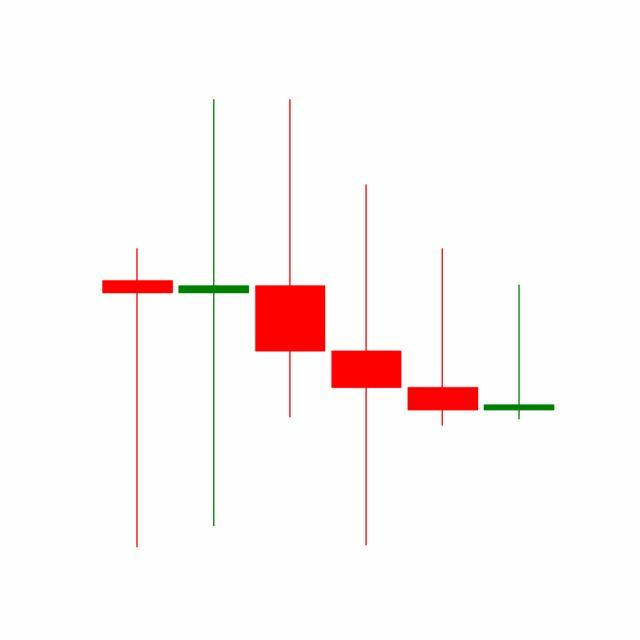Gravestone Doji: (404, 248, 482, 430)
